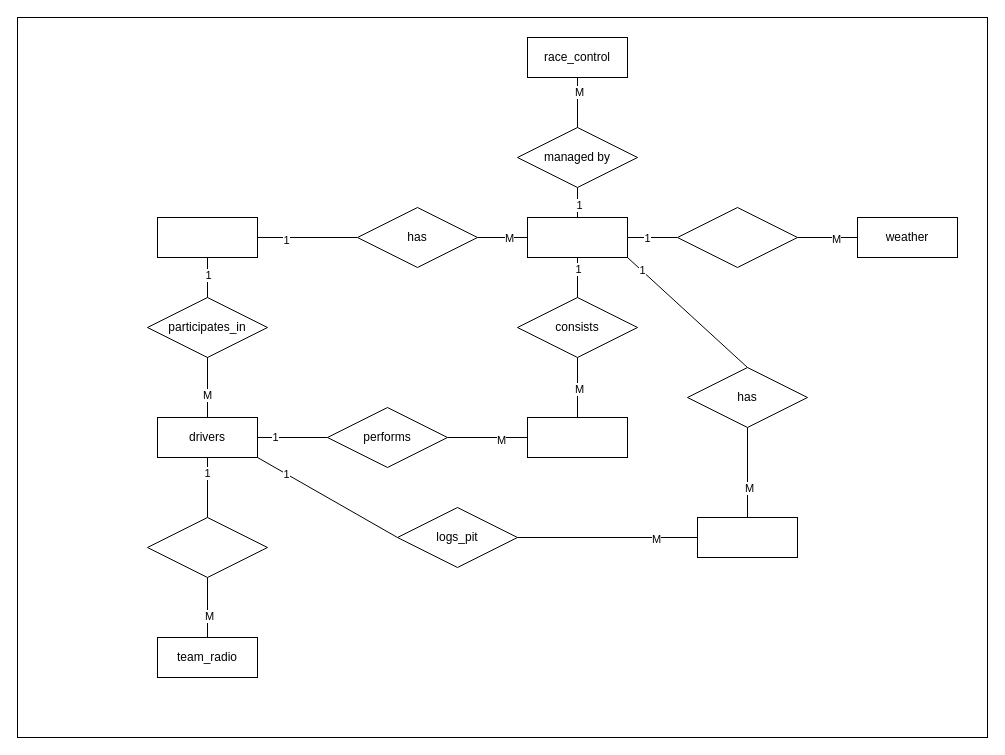
This 1005x755 diagram has some shape labels left out. The centre of each missing label's shape, as x and y in pixels:
meetings: pixel 207 237
pit: pixel 747 537
records: pixel 737 237
sends radio: pixel 207 547
sessions: pixel 577 237
stints: pixel 577 437
